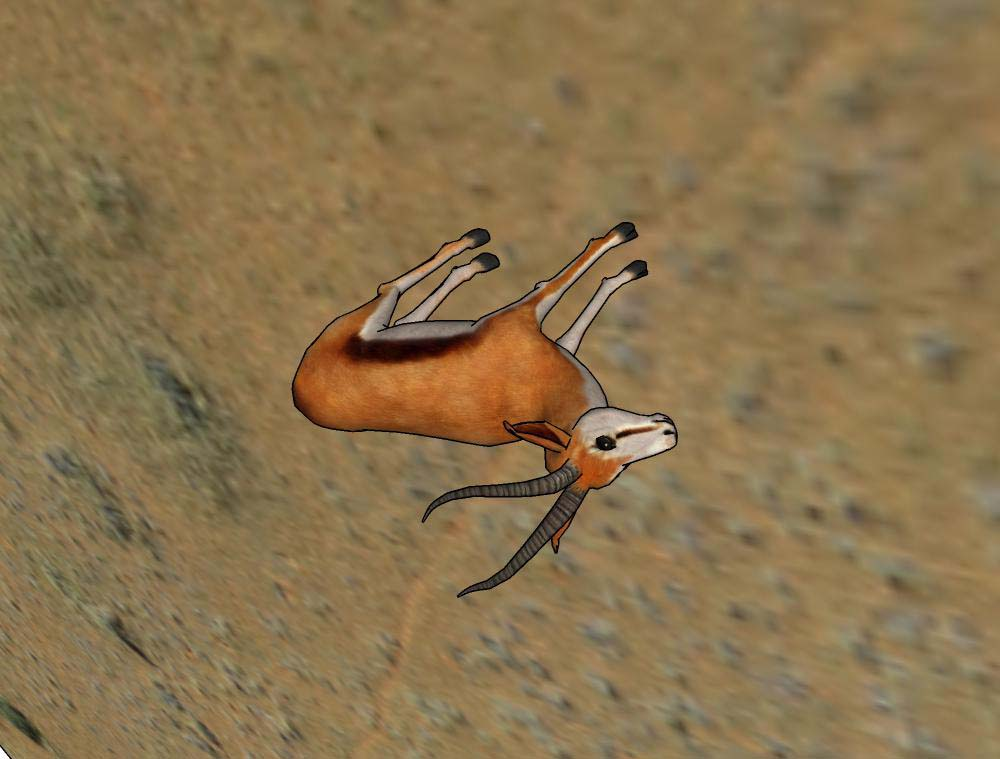springbok: (278, 214, 692, 597)
